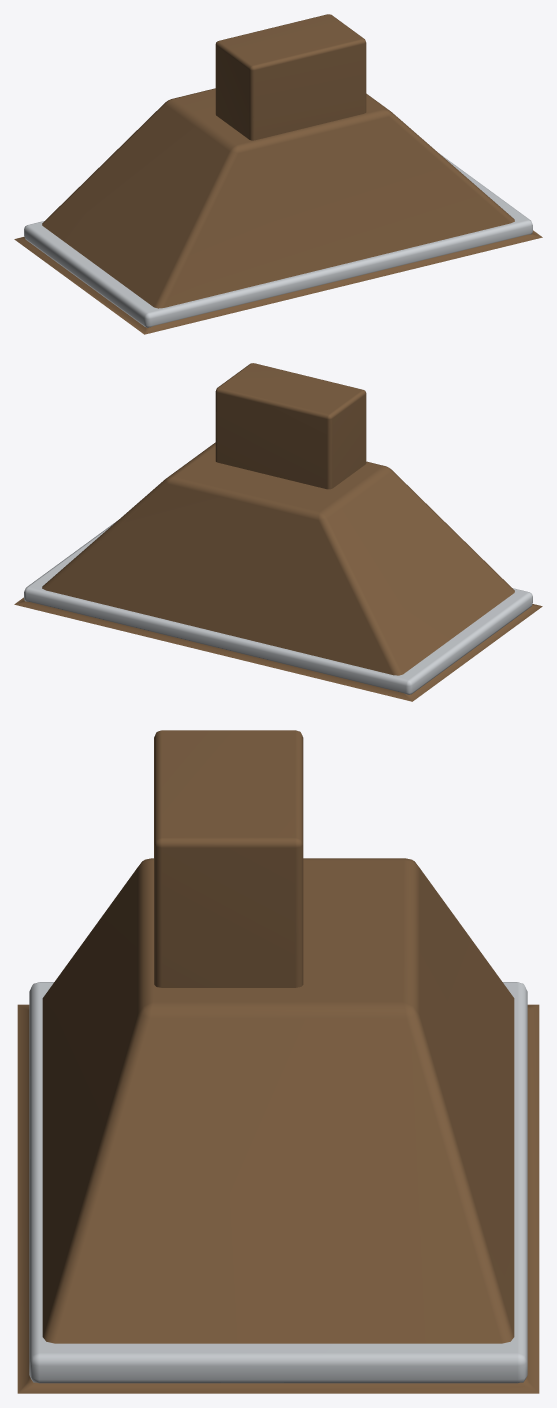
File: range_hood.glb
3 views of the same model, one above another, from view 1: azimuth 30°, elevation 25°; view 2: azimuth 150°, elevation 25°; view 3: azimuth 270°, elevation 25° (orthographic). The views are drawn at different scales.
Visible parts, largest first — view 1: canopy; view 2: canopy; view 3: canopy.
Boxes of the visible parts, bbox=[...] form: canopy: bbox=[14, 14, 542, 334]; canopy: bbox=[14, 363, 542, 701]; canopy: bbox=[17, 730, 539, 1393].
Bounding box in the file's own units: 0.924 × 0.464 × 0.524.
